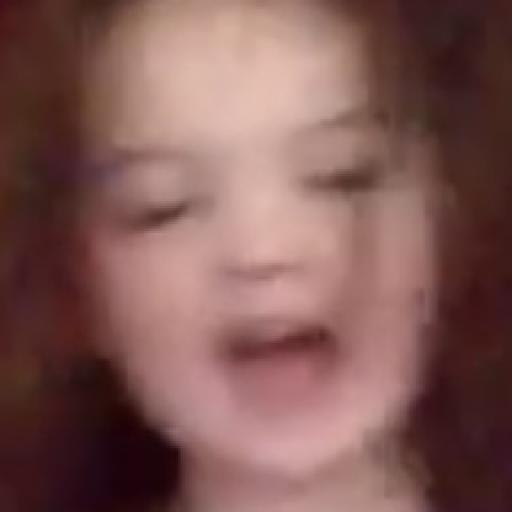Autism: (80, 30, 512, 494)
